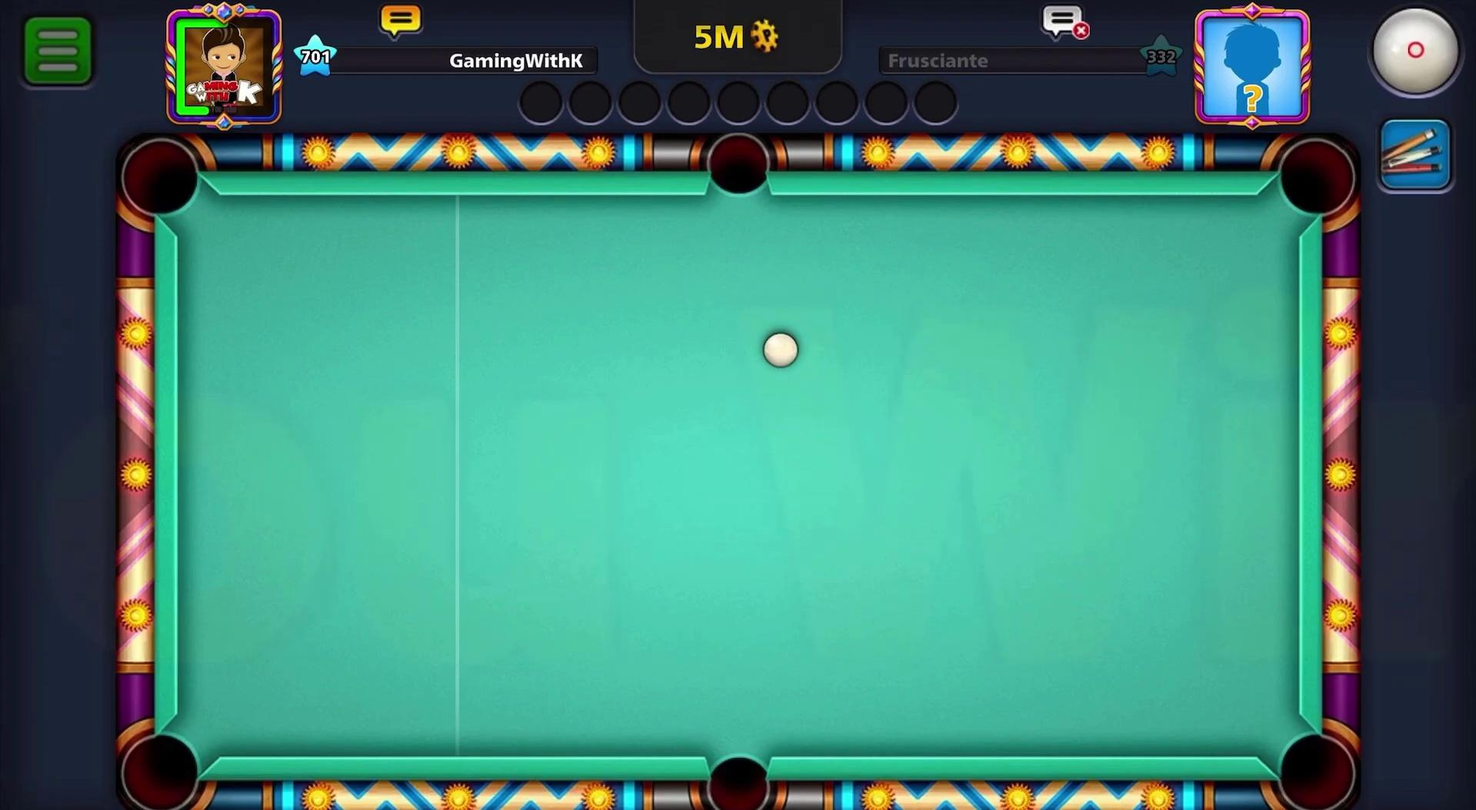Hole: (108, 129, 212, 229), (1263, 717, 1366, 809), (110, 717, 212, 809), (1267, 133, 1364, 229), (685, 734, 786, 809), (692, 130, 783, 210)
Play_Area: (175, 194, 1301, 759)
Spin: (1348, 0, 1475, 112)
White: (755, 327, 805, 374)
